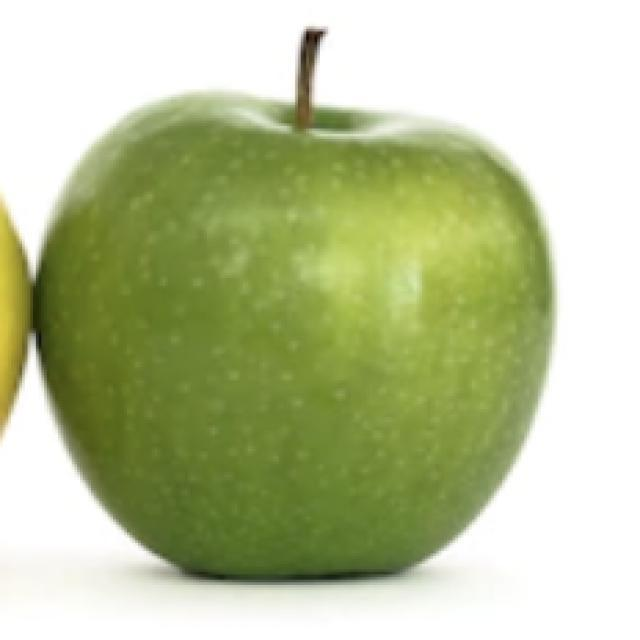Fresh Apple: (30, 100, 550, 600)
